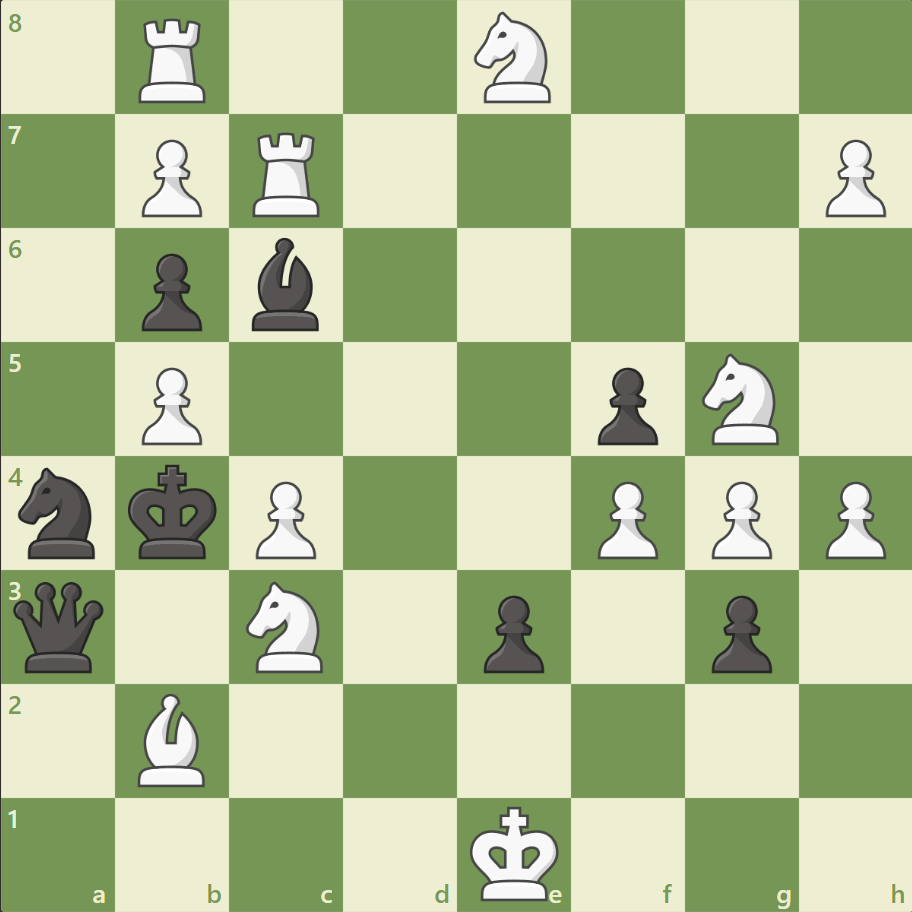B: (131, 687, 215, 790)
K: (465, 798, 565, 906)
N: (465, 7, 562, 110), (692, 348, 789, 450), (238, 575, 335, 677)
P: (133, 132, 208, 223), (133, 359, 208, 450), (247, 473, 322, 564), (701, 473, 776, 564), (815, 132, 889, 223), (588, 473, 662, 564), (815, 473, 889, 564)
R: (246, 125, 329, 222), (133, 12, 215, 109)
b: (244, 233, 328, 336)
k: (124, 458, 224, 566)
n: (11, 461, 108, 564)
p: (133, 246, 208, 337), (474, 586, 549, 677), (701, 586, 776, 677), (588, 359, 662, 450)
q: (10, 576, 109, 676)
